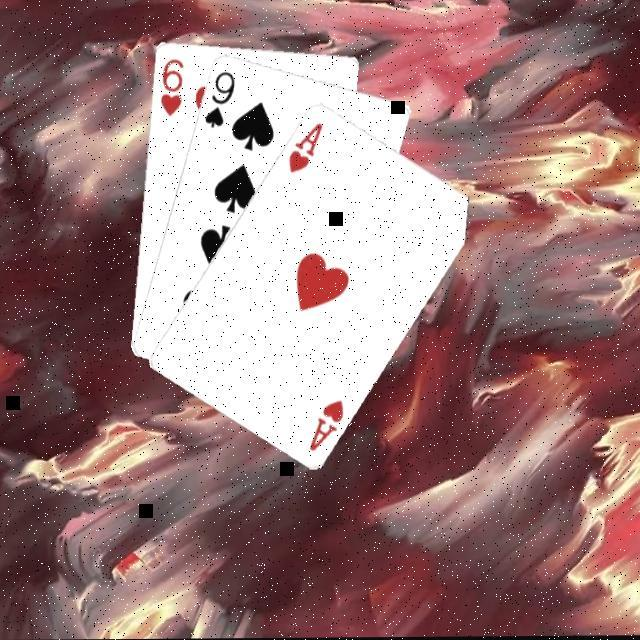6H: (156, 54, 186, 118)
9S: (200, 66, 237, 130)
AH: (284, 118, 324, 175), (305, 395, 345, 452)
